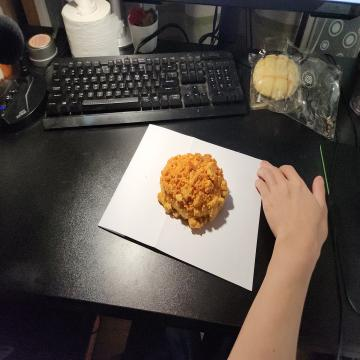soboru_bread: (161, 151, 226, 231)
